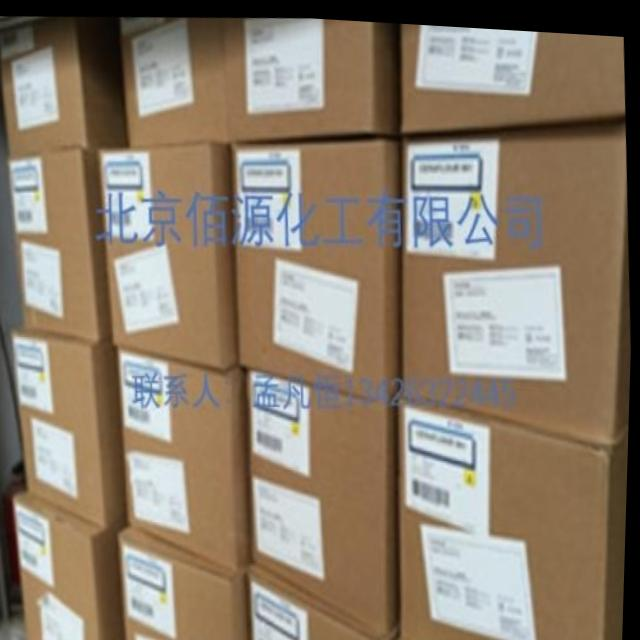box: (404, 124, 632, 440), (400, 391, 631, 640), (233, 135, 402, 399), (249, 365, 402, 632), (100, 137, 240, 367), (120, 345, 255, 571), (13, 323, 131, 529), (402, 19, 625, 126), (222, 16, 400, 139), (8, 144, 114, 341), (0, 17, 131, 157), (15, 491, 132, 640), (121, 524, 255, 640), (120, 16, 232, 145), (251, 559, 403, 640)
